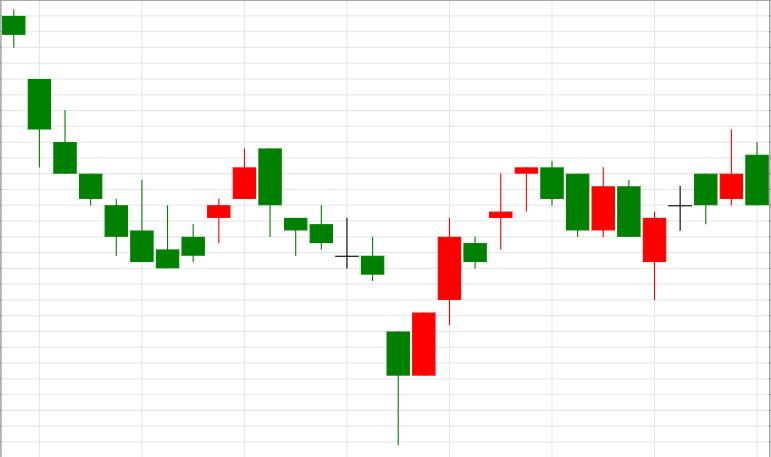hammer_rise: (233, 148, 410, 445)
inverse_hammer_rise: (3, 10, 154, 261)
